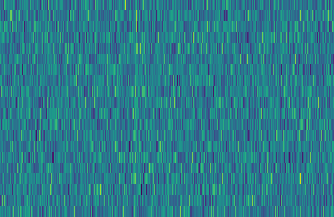signal: (128, 0, 139, 217)
